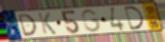4: (110, 6, 127, 32)
5: (60, 10, 81, 35)
D: (123, 5, 146, 31), (17, 13, 39, 38)
G: (81, 9, 103, 34)
K: (37, 12, 58, 35)
